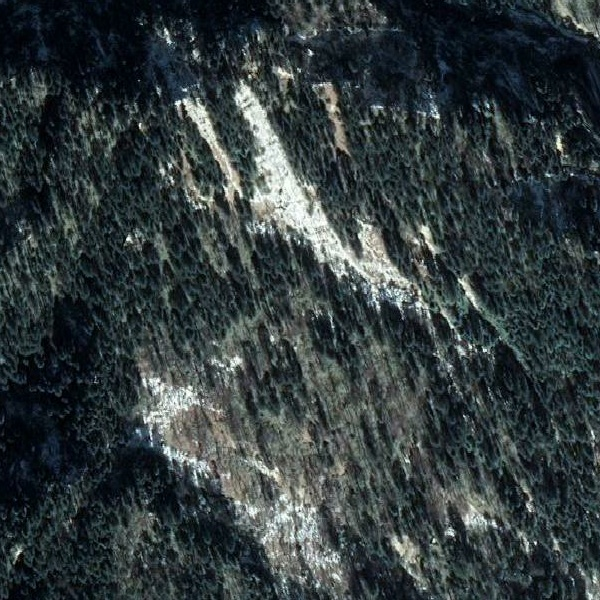slope: (233, 74, 433, 337), (236, 488, 348, 599), (137, 367, 228, 477), (177, 95, 244, 206), (390, 533, 428, 590), (458, 499, 500, 534)
